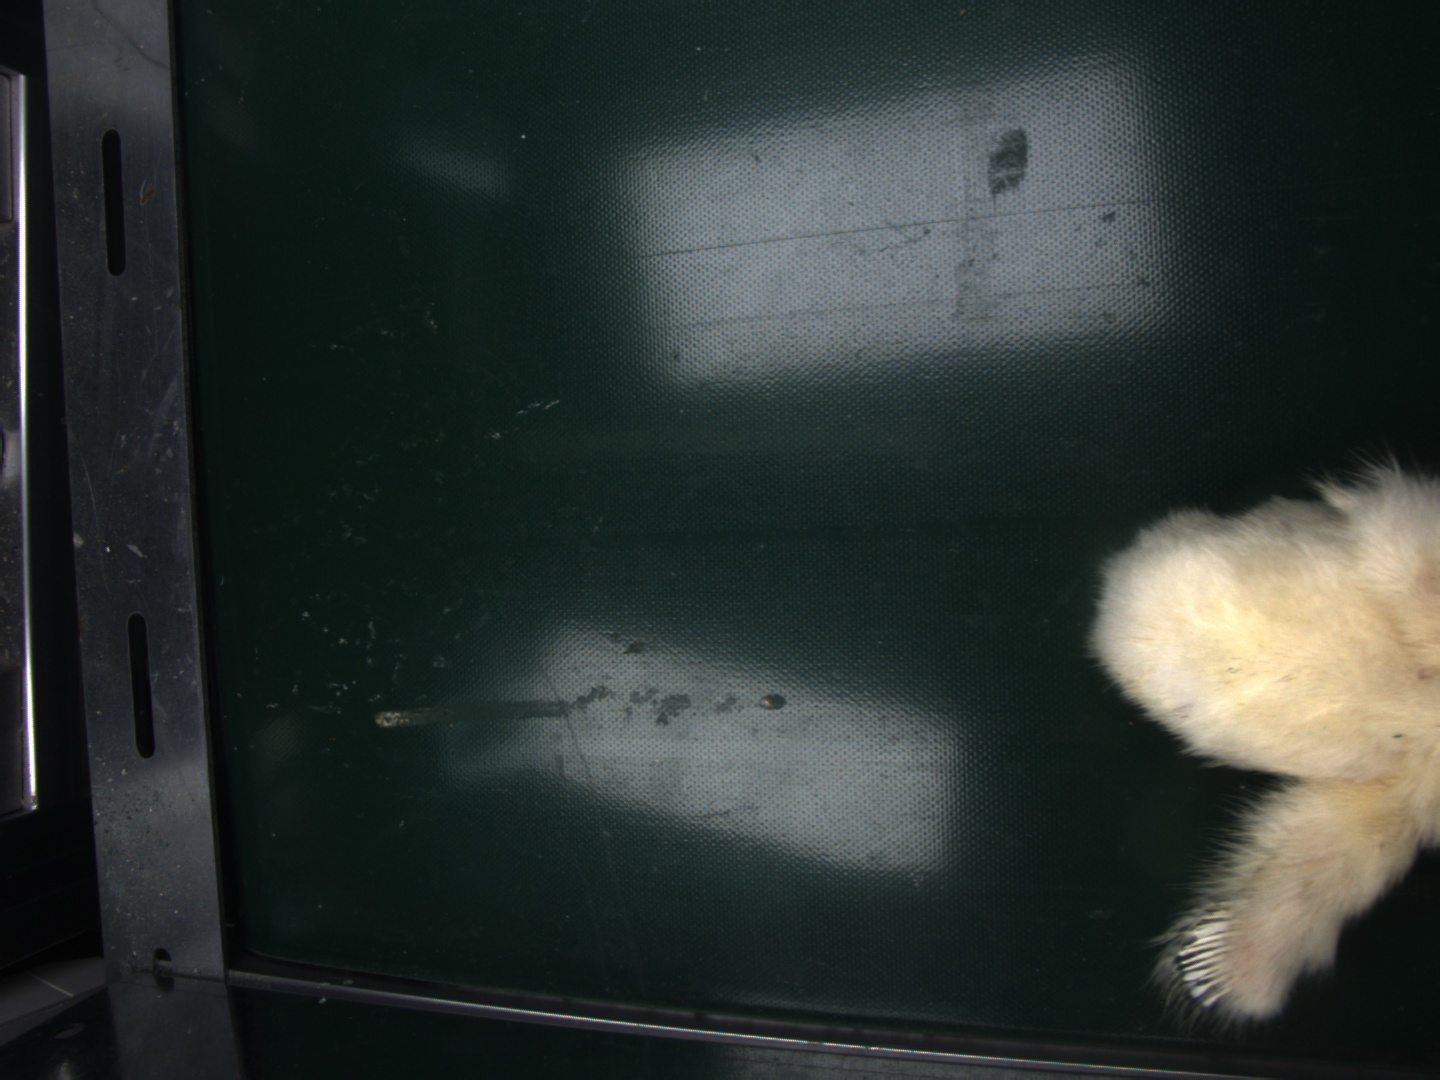male: (1178, 909, 1239, 1004)
